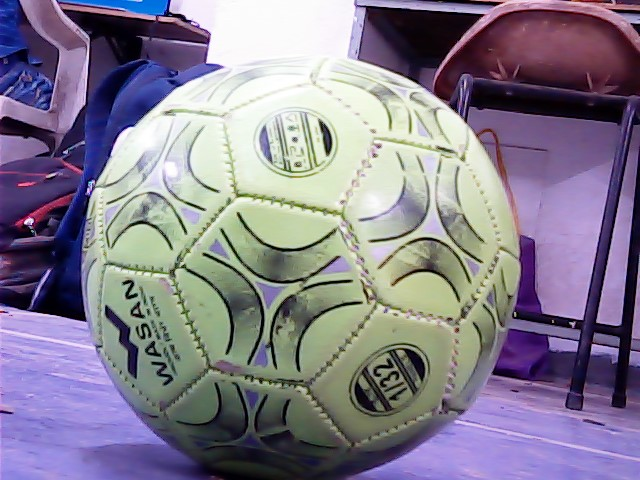Green_ball: (68, 57, 527, 479)
